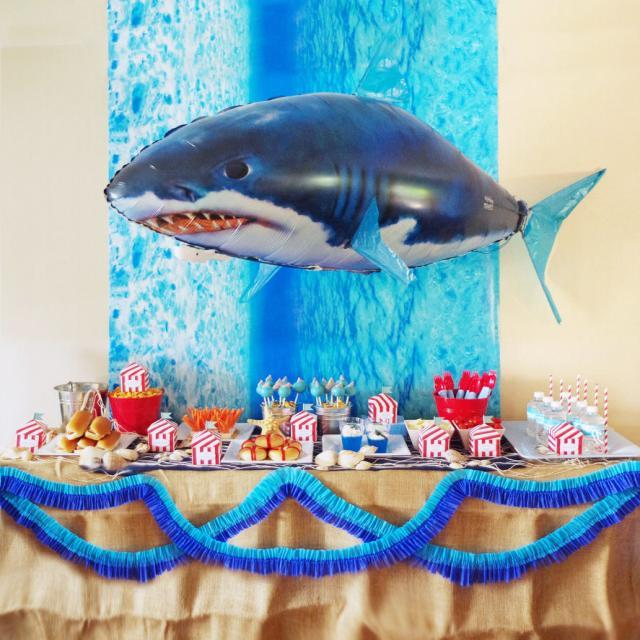Shark: (102, 24, 609, 324)
